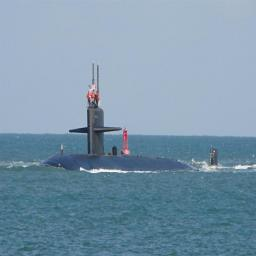submarine: (34, 107, 219, 170)
